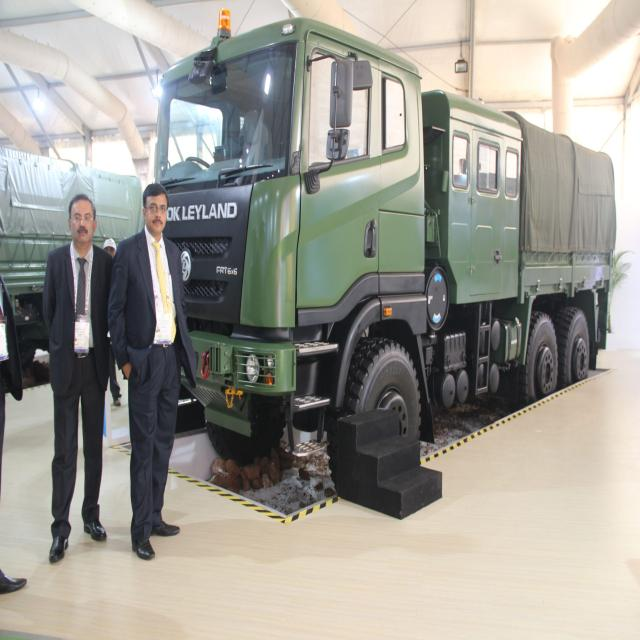truck: (155, 19, 615, 464)
